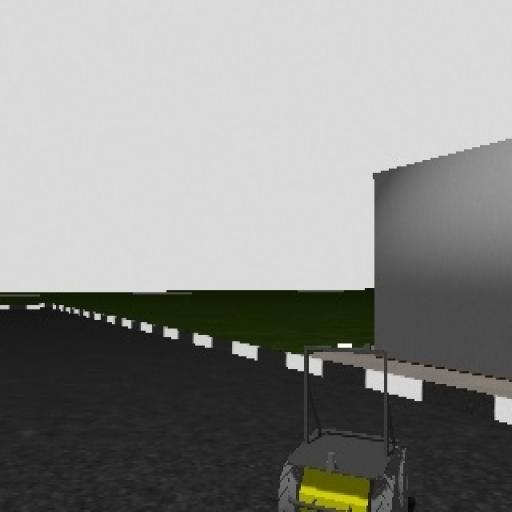huskya200: (261, 330, 437, 512)
